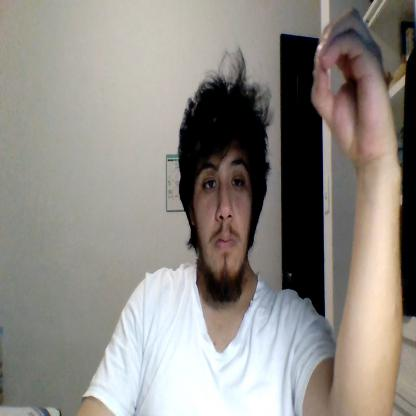O: (311, 7, 391, 162)
